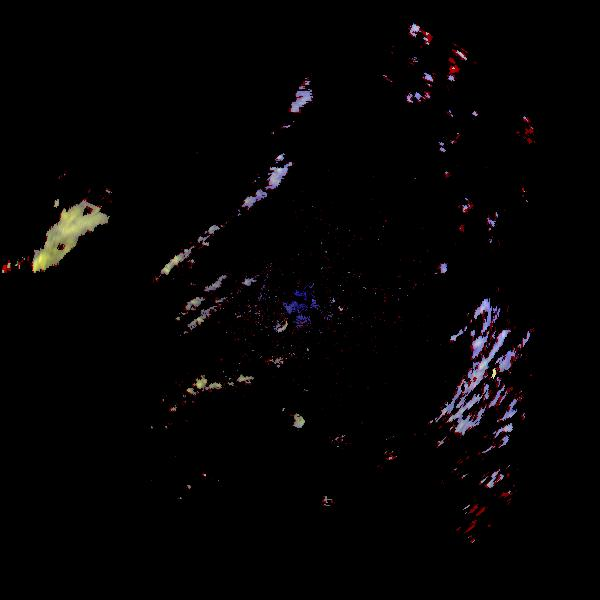roost: (289, 415, 304, 430)
